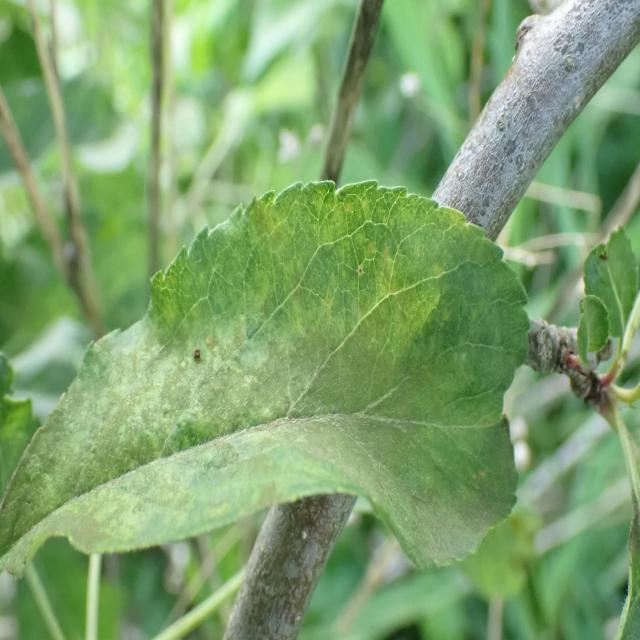scab: (0, 254, 541, 588)
